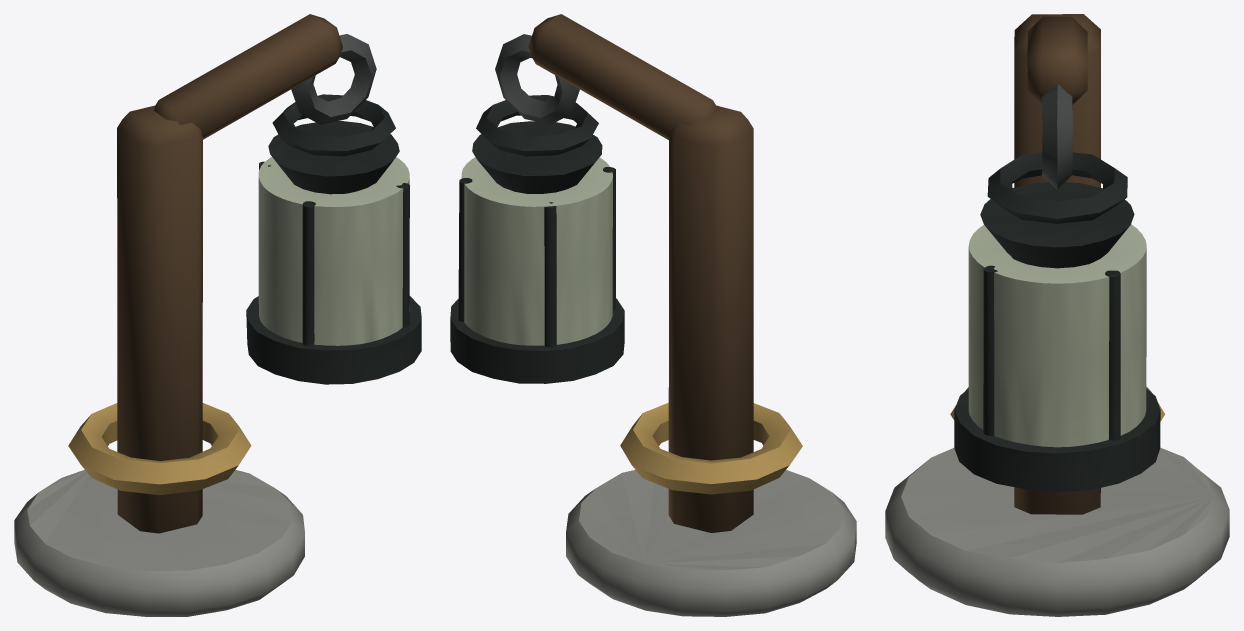
Rendered from storm_lantern_a.glb.
The picture shows the model from 3 angles, left to right: view 1: azimuth 30°, elevation 25°; view 2: azimuth 150°, elevation 25°; view 3: azimuth 270°, elevation 25°; orthographic projection. The views are drawn at different scales.
Visible parts, largest first — view 1: Surface; view 2: Surface; view 3: Surface.
Part boxes in pixels (x1,y1,x2,y2): Surface: (14,14,421,616); Surface: (450,14,856,616); Surface: (885,14,1229,616).
Size of the model in its own units: 1.19 by 1.53 by 0.8015.
